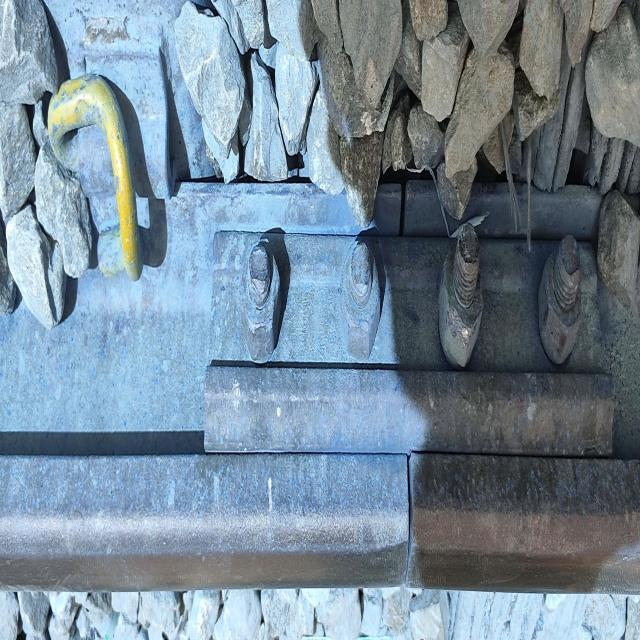Good Fasteners: (51, 42, 177, 288)
Good Joint: (209, 223, 624, 469)
